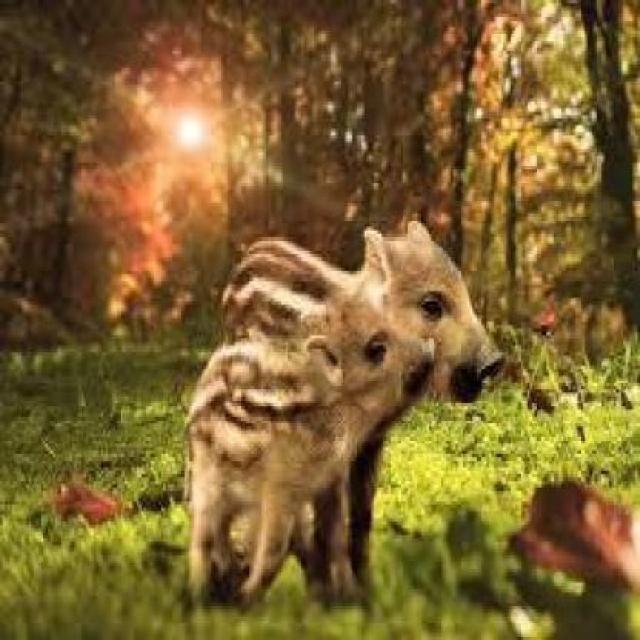wildboar: (201, 217, 508, 595), (167, 280, 439, 606)
